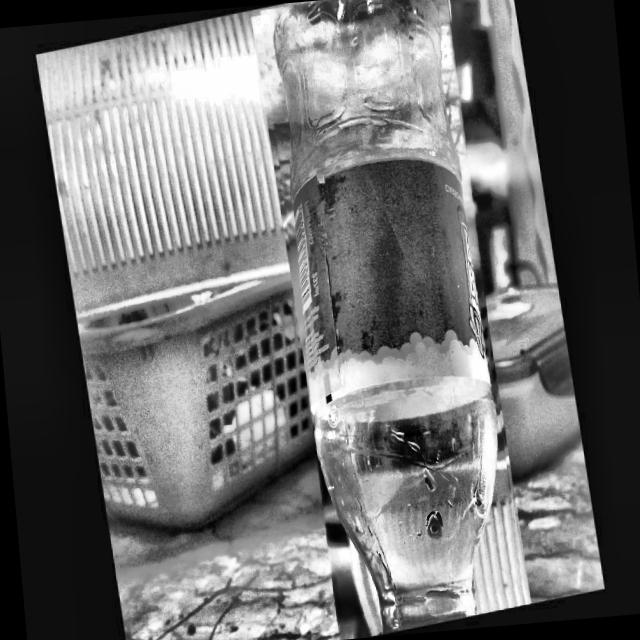Plastic-Bottle: (244, 0, 538, 640)
